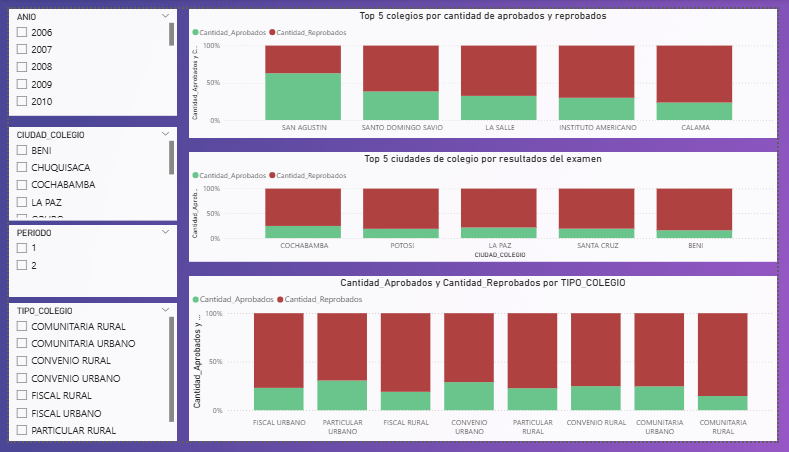

Layout of this report page (visuals, bound fields, positions):
{"tool":"powerbi","page":{"name":"Aprobados y Reprobados por Origen y Colegio-Dashboard4","canvas":[1280,720],"ordinal":3},"visuals":[{"type":"slicer","fields":{"Values":["Df_Postulantes.ANIO"]},"box":[0,0,280,177.9],"z":0},{"type":"slicer","fields":{"Values":["Df_Postulantes.PERIODO"]},"box":[0,360,280,120],"z":1000},{"type":"slicer","fields":{"Values":["Df_Postulantes.TIPO_COLEGIO"]},"box":[0,490,280,230],"z":2000},{"type":"slicer","fields":{"Values":["Df_Postulantes.CIUDAD_COLEGIO"]},"box":[0,196.4,280,155.7],"z":3000},{"type":"hundredPercentStackedColumnChart","fields":{"Category":["Df_Postulantes.TIPO_COLEGIO"],"Y":["Df_Postulantes.Cantidad_Aprobados","Df_Postulantes.Cantidad_Reprobados"]},"box":[300,445,980,275],"z":4000},{"type":"hundredPercentStackedColumnChart","title":"Top 5 ciudades de colegio por resultados del examen","fields":{"Category":["Df_Postulantes.CIUDAD_COLEGIO"],"Y":["Df_Postulantes.Cantidad_Aprobados","Df_Postulantes.Cantidad_Reprobados"]},"box":[300,237.5,980,182.5],"z":5000},{"type":"hundredPercentStackedColumnChart","title":"Top 5 colegios por cantidad de aprobados y reprobados","fields":{"Category":["Df_Postulantes.NOMBRE_COLEGIO"],"Y":["Df_Postulantes.Cantidad_Aprobados","Df_Postulantes.Cantidad_Reprobados"]},"box":[300,0,980,215],"z":6000}]}

Visuals, with their boxes in screenshot pixels (x1, y1, x2, y2), scaled from the page's 1280x720 canvas onto the 789x452 screenshot:
slicer - Df_Postulantes.ANIO: <region>0, 0, 173, 112</region>
slicer - Df_Postulantes.PERIODO: <region>0, 226, 173, 301</region>
slicer - Df_Postulantes.TIPO_COLEGIO: <region>0, 308, 173, 451</region>
slicer - Df_Postulantes.CIUDAD_COLEGIO: <region>0, 123, 173, 221</region>
hundredPercentStackedColumnChart - Df_Postulantes.TIPO_COLEGIO x Df_Postulantes.Cantidad_Aprobados: <region>185, 279, 788, 451</region>
"Top 5 ciudades de colegio por resultados del examen" hundredPercentStackedColumnChart: <region>185, 149, 788, 264</region>
"Top 5 colegios por cantidad de aprobados y reprobados" hundredPercentStackedColumnChart: <region>185, 0, 788, 135</region>
